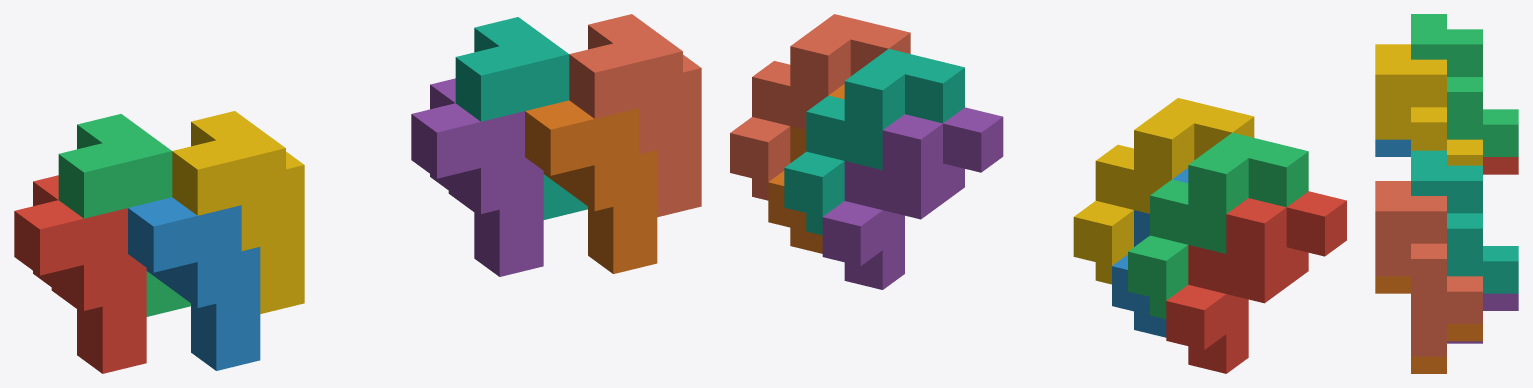
File: tiling.obj
3 renders of one model, left to right at view 1: azimuth 30°, elevation 25°; view 2: azimuth 150°, elevation 25°; view 3: azimuth 270°, elevation 25°, orthographic. The views are drawn at different scales.
Parts seen in each view (by area): view 1: copy_1_domain_4, copy_1_domain_8, copy_1_domain_5, copy_1_domain_1, copy_1_domain_6, copy_1_domain_2, copy_1_domain_3, copy_1_domain_7; view 2: copy_1_domain_5, copy_1_domain_1, copy_1_domain_3, copy_1_domain_7, copy_1_domain_4, copy_1_domain_8, copy_1_domain_6, copy_1_domain_2; view 3: copy_1_domain_8, copy_1_domain_4, copy_1_domain_7, copy_1_domain_3, copy_1_domain_6, copy_1_domain_5, copy_1_domain_1, copy_1_domain_2.
Boxes of the visible parts, box(x1,y1,x2,y2) form: copy_1_domain_4: box(172, 111, 304, 313); copy_1_domain_8: box(569, 14, 701, 217); copy_1_domain_5: box(411, 78, 543, 276); copy_1_domain_1: box(14, 175, 146, 373); copy_1_domain_6: box(525, 100, 657, 273); copy_1_domain_2: box(128, 197, 260, 370); copy_1_domain_3: box(58, 114, 190, 316); copy_1_domain_7: box(455, 17, 587, 219); copy_1_domain_5: box(822, 107, 1003, 289); copy_1_domain_1: box(1166, 191, 1346, 373); copy_1_domain_3: box(1128, 132, 1308, 319); copy_1_domain_7: box(784, 49, 964, 235); copy_1_domain_4: box(1073, 98, 1254, 284); copy_1_domain_8: box(730, 14, 910, 200); copy_1_domain_6: box(768, 84, 844, 253); copy_1_domain_2: box(1112, 168, 1188, 337); copy_1_domain_8: box(1375, 181, 1482, 356); copy_1_domain_4: box(1375, 44, 1482, 165); copy_1_domain_7: box(1411, 150, 1518, 293); copy_1_domain_3: box(1411, 14, 1518, 156); copy_1_domain_6: box(1375, 276, 1482, 373); copy_1_domain_5: box(1447, 293, 1518, 343); copy_1_domain_1: box(1483, 157, 1518, 174); copy_1_domain_2: box(1375, 139, 1410, 156).
Bounding box in the file's own units: 15 × 5 × 4.
